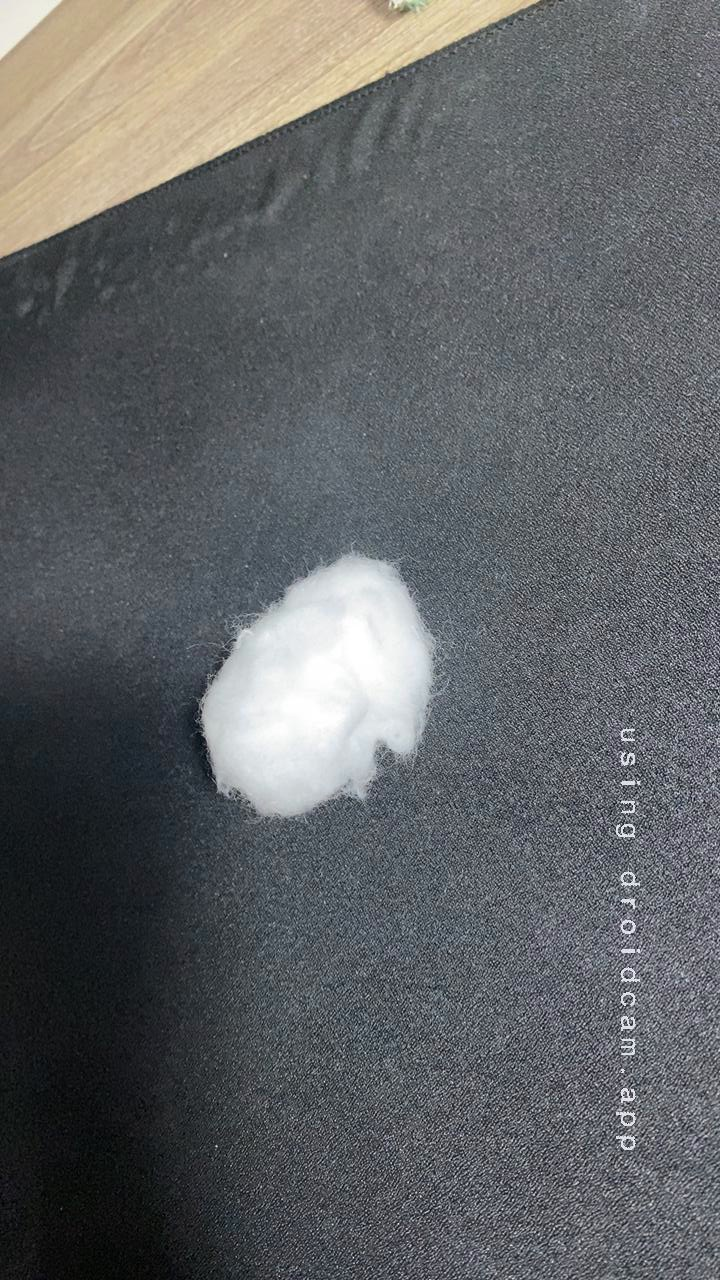cotton: (172, 535, 466, 830)
